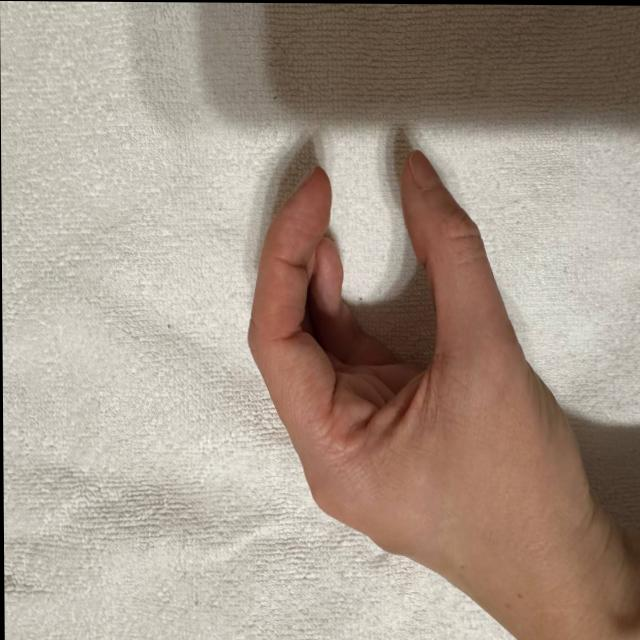s: (242, 37, 557, 570)
